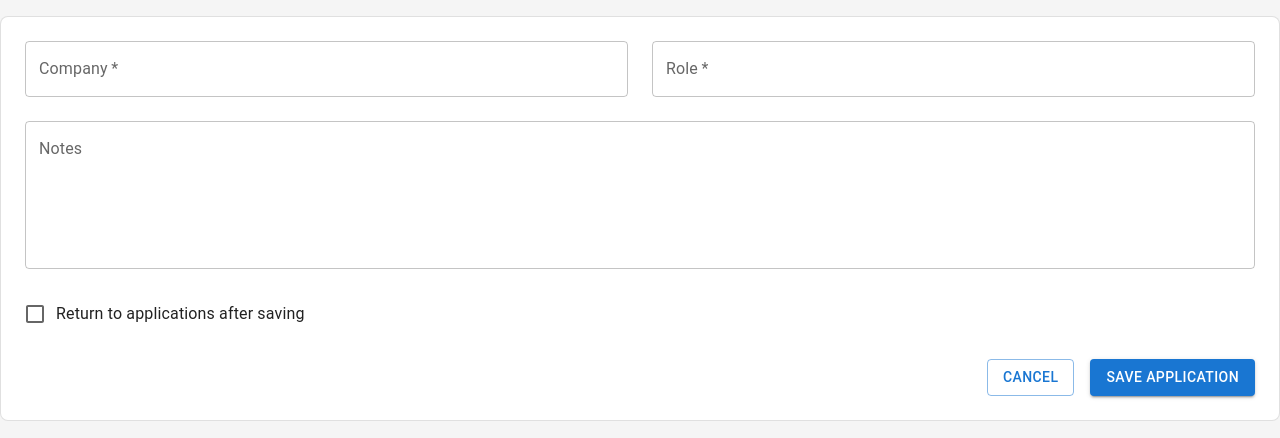
Scenario: ApplicationForm › resets the form when Reset is clicked
In the field labelled "Company *": (326, 69) left=25, top=41, right=628, bottom=97, type "Google"
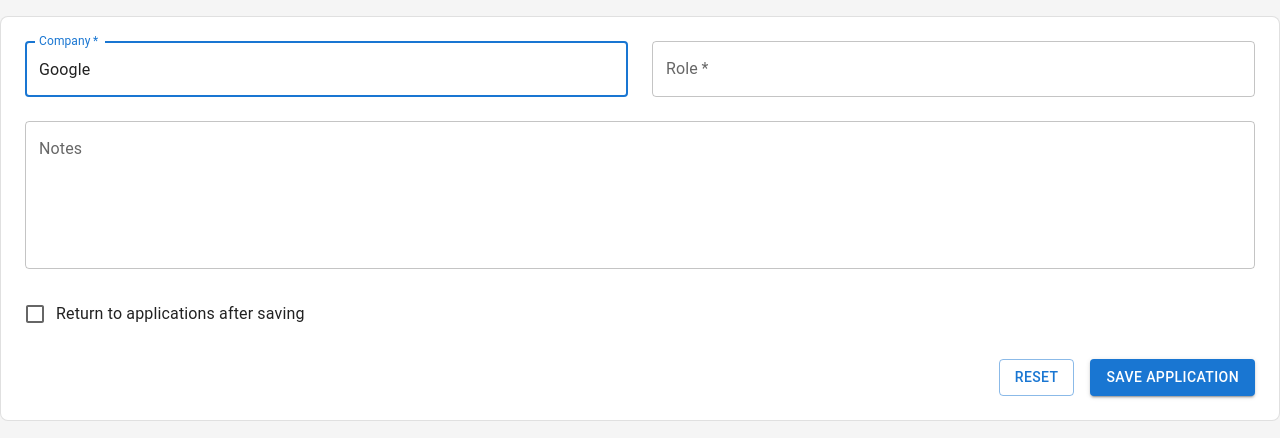
Click the button "Reset": (1037, 377) left=999, top=359, right=1074, bottom=396
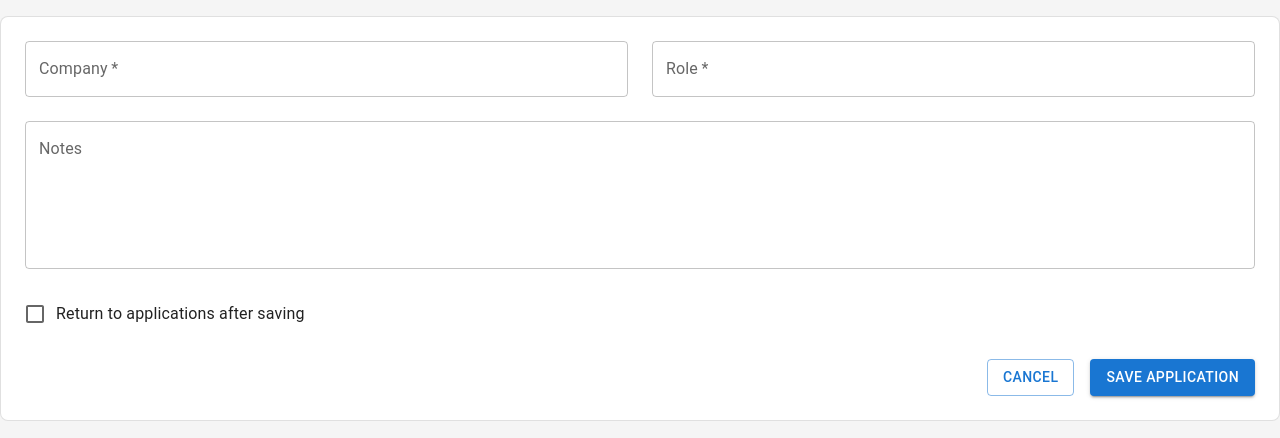
Result: the button "Cancel" is shown at left=987, top=359, right=1074, bottom=396
